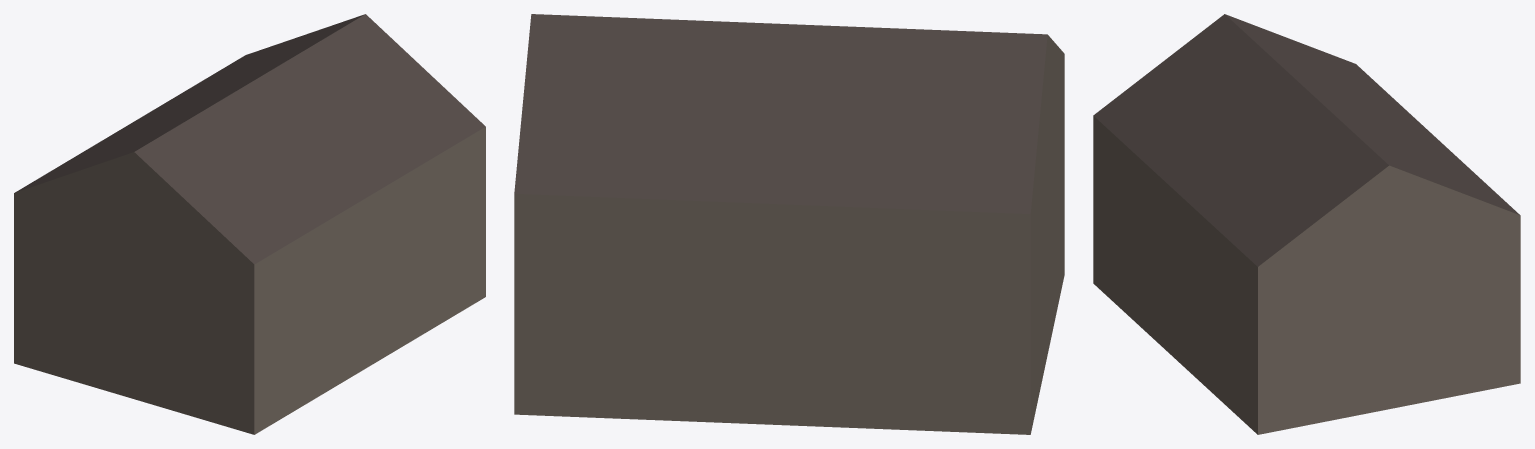
The picture shows the model from 3 angles, left to right: view 1: azimuth 30°, elevation 25°; view 2: azimuth 150°, elevation 25°; view 3: azimuth 270°, elevation 25°; orthographic projection. The views are drawn at different scales.
Parts seen in each view (by area): view 1: HP-w373833571; view 2: HP-w373833571; view 3: HP-w373833571.
Boxes of the visible parts, <box> form: HP-w373833571: <box>14,14,485,434</box>; HP-w373833571: <box>514,14,1064,434</box>; HP-w373833571: <box>1093,14,1520,434</box>.
Bounding box in the file's own units: 23.33 × 13.06 × 20.76.
